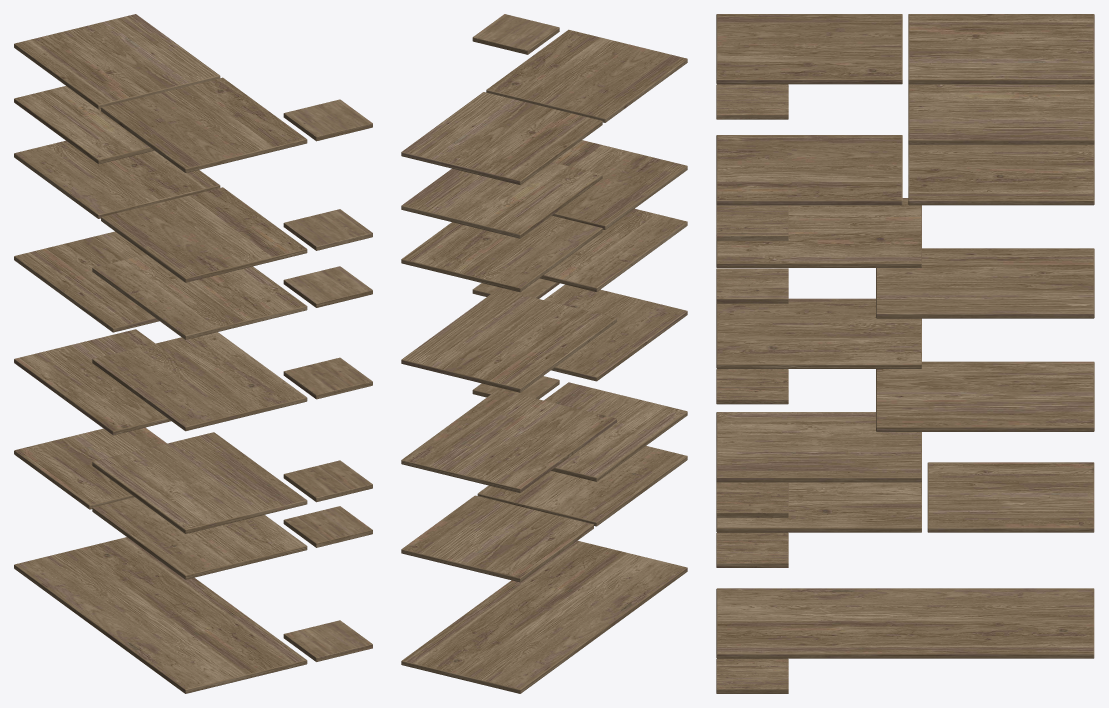
The model's file is rackFlowersDefoult3.gltf.
3 views of the same model, side by side, from view 1: azimuth 30°, elevation 25°; view 2: azimuth 150°, elevation 25°; view 3: azimuth 270°, elevation 25° (orthographic). The views are drawn at different scales.
Visible parts, largest first — view 1: rackFlowersDefoult3; view 2: rackFlowersDefoult3; view 3: rackFlowersDefoult3.
Boxes of the visible parts, box(x1,y1,x2,y2) form: rackFlowersDefoult3: box(14, 14, 372, 693); rackFlowersDefoult3: box(401, 14, 687, 693); rackFlowersDefoult3: box(716, 14, 1094, 693).
Bounding box in the file's own units: 3.44 × 9.2 × 5.44.
1 material, 1 textured.
